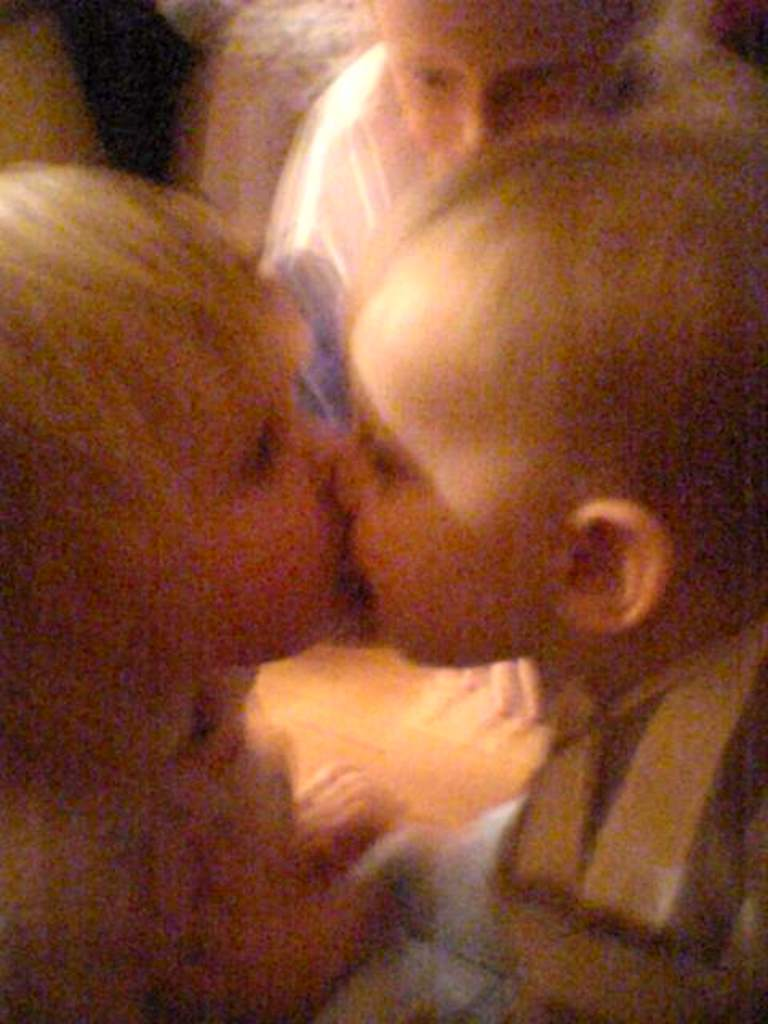Person: (320, 142, 768, 1023), (0, 163, 333, 1023)
